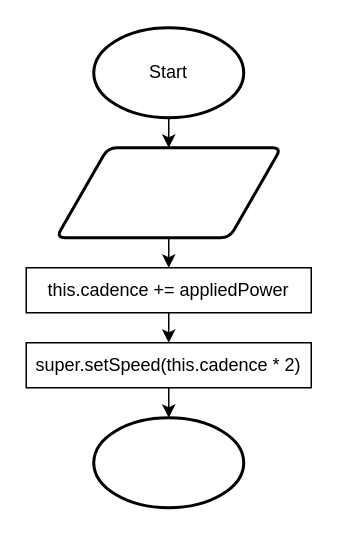
The diagram is 338 pixels wide and 534 high, and some of its shapes have lost their labels. The centre of each missing label's shape, as x and y in pixels:
get appliedPower: (x=168, y=192)
Stop: (x=168, y=462)
